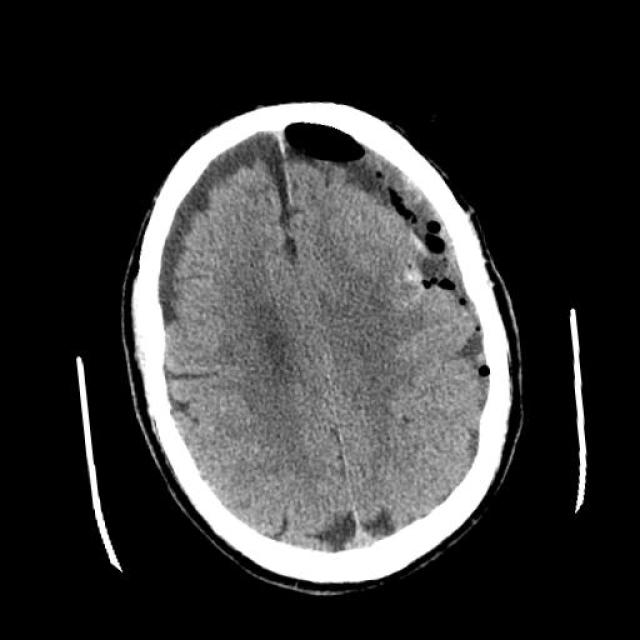Subdural: (384, 234, 444, 311)
